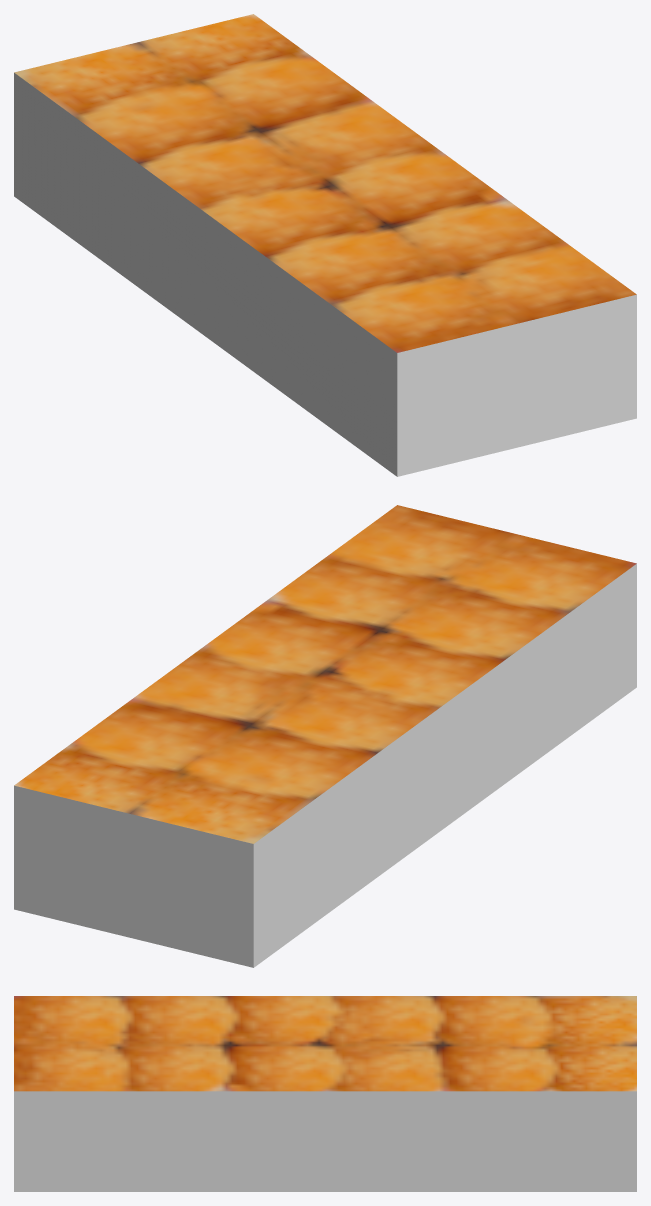
File: AL_CocadaSmall_Static.fbx
3 views of the same model, one above another, from view 1: azimuth 30°, elevation 25°; view 2: azimuth 150°, elevation 25°; view 3: azimuth 270°, elevation 25° (orthographic). The views are drawn at different scales.
Parts seen in each view (by area): view 1: Cube; view 2: Cube; view 3: Cube.
Boxes of the visible parts, x1,y1,x2,y2 form: Cube: [14, 14, 636, 476]; Cube: [14, 505, 636, 967]; Cube: [14, 996, 636, 1191].
Size of the model in its own units: 0.4261 by 0.076 by 0.1539.
